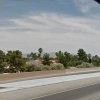Tree: (33, 43, 89, 70)
